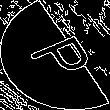P_NE: (15, 27, 95, 83)
